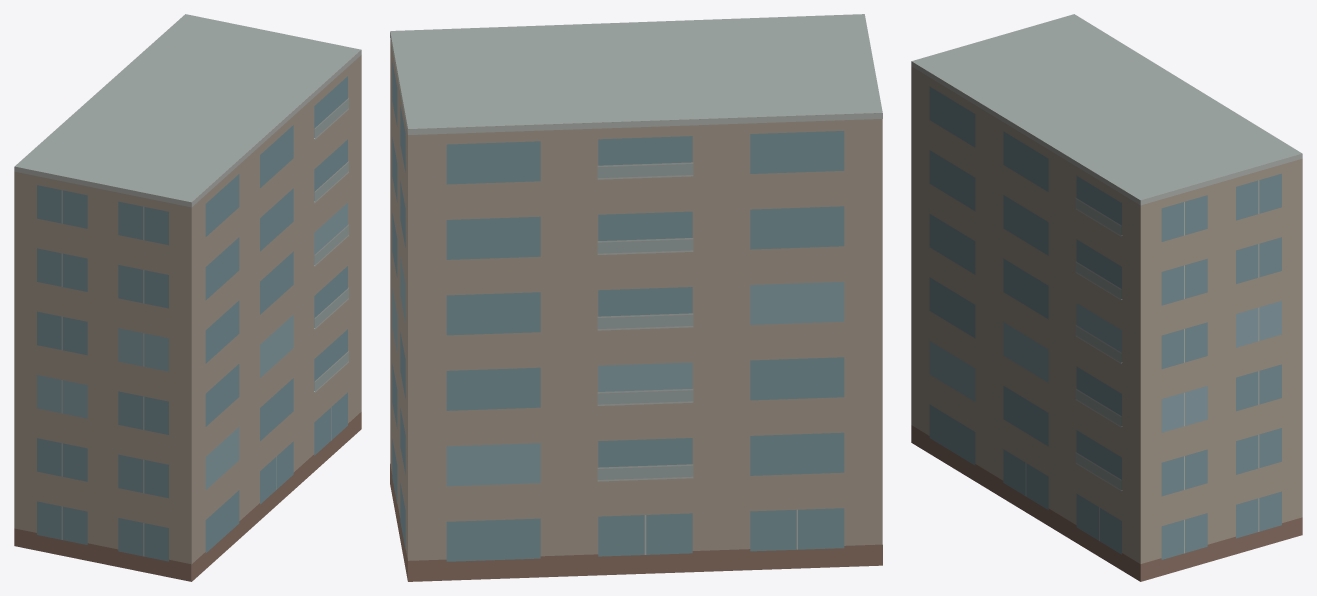
File: survey-upis-32722422.glb
3 views of the same model, side by side, from view 1: azimuth 30°, elevation 25°; view 2: azimuth 150°, elevation 25°; view 3: azimuth 270°, elevation 25° (orthographic). The views are drawn at different scales.
Parts seen in each view (by area): view 1: survey-upis-32722422.tmp; view 2: survey-upis-32722422.tmp; view 3: survey-upis-32722422.tmp.
Boxes of the visible parts, x1,y1,x2,y2 form: survey-upis-32722422.tmp: (14, 14, 361, 581); survey-upis-32722422.tmp: (390, 14, 882, 581); survey-upis-32722422.tmp: (911, 14, 1302, 581).
Size of the model in its own units: 19.18 by 18.3 by 17.01.
